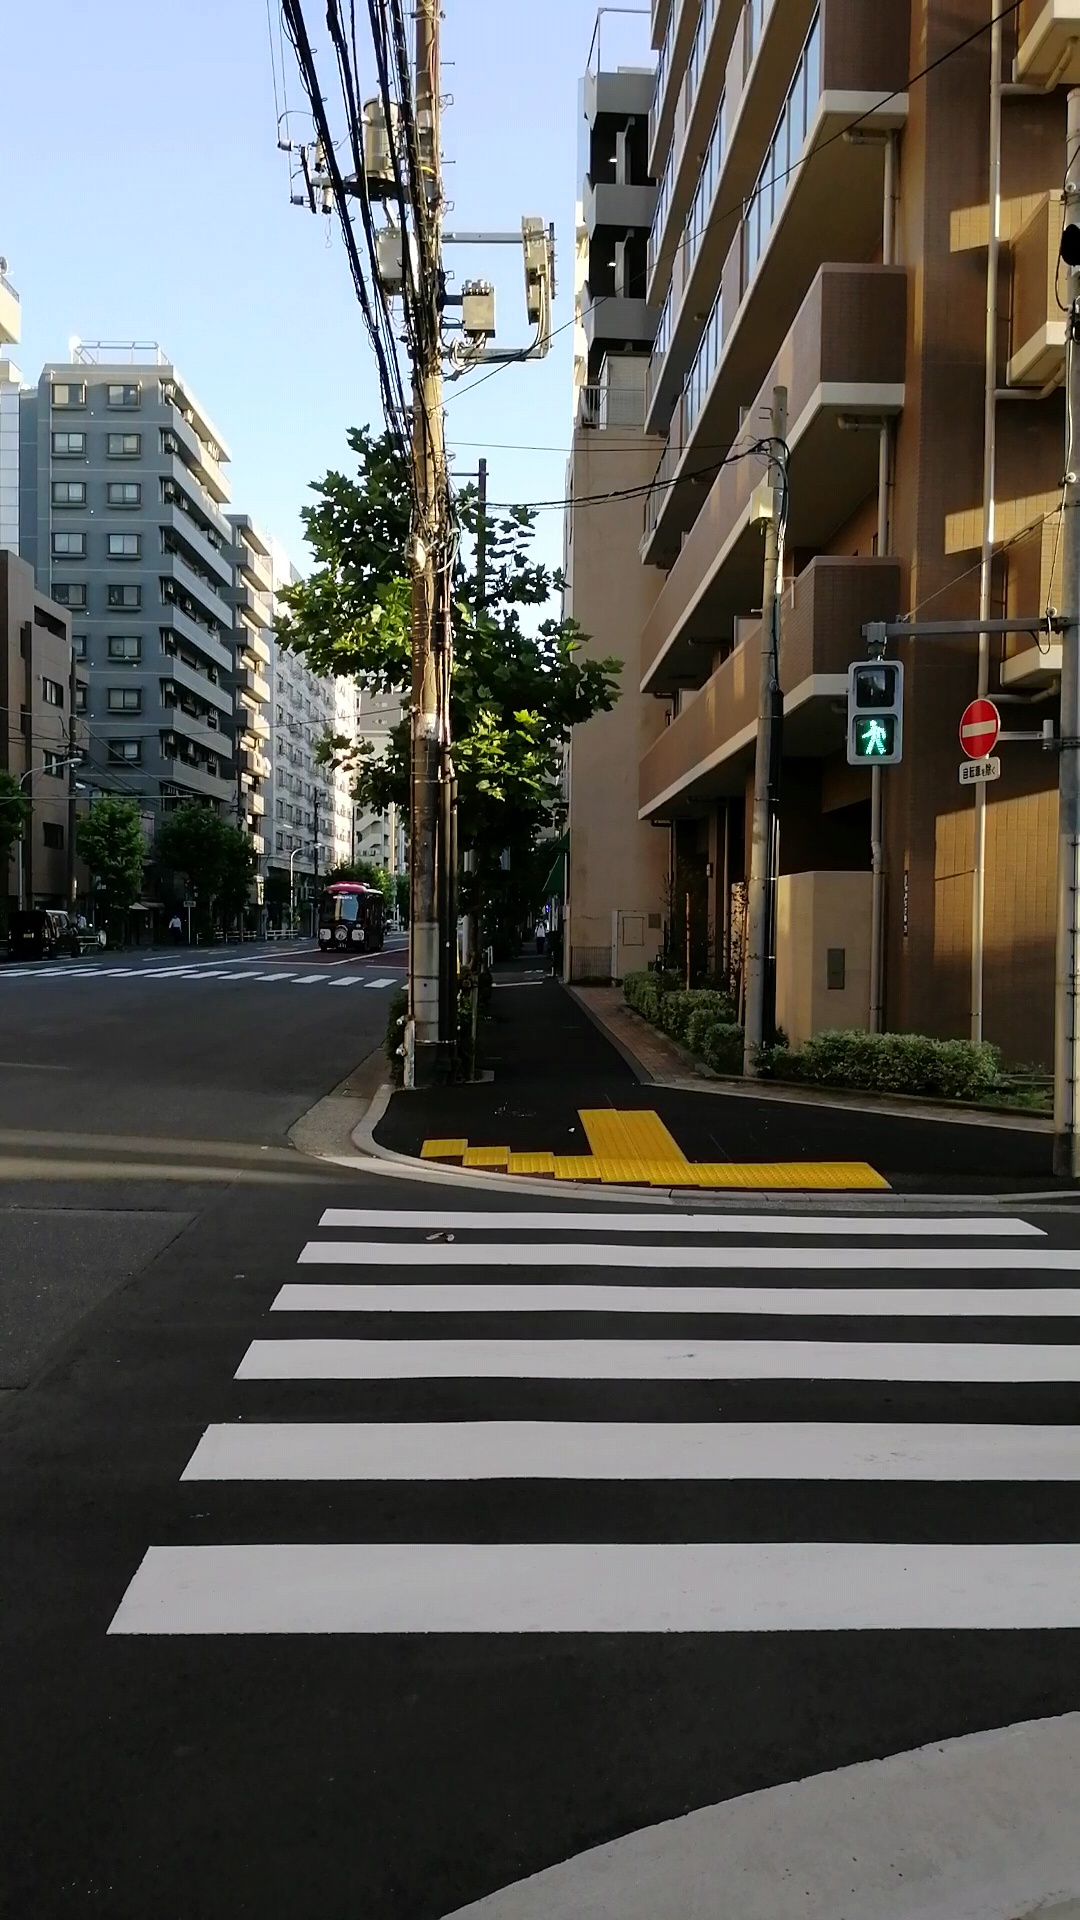green: (844, 657, 905, 767)
